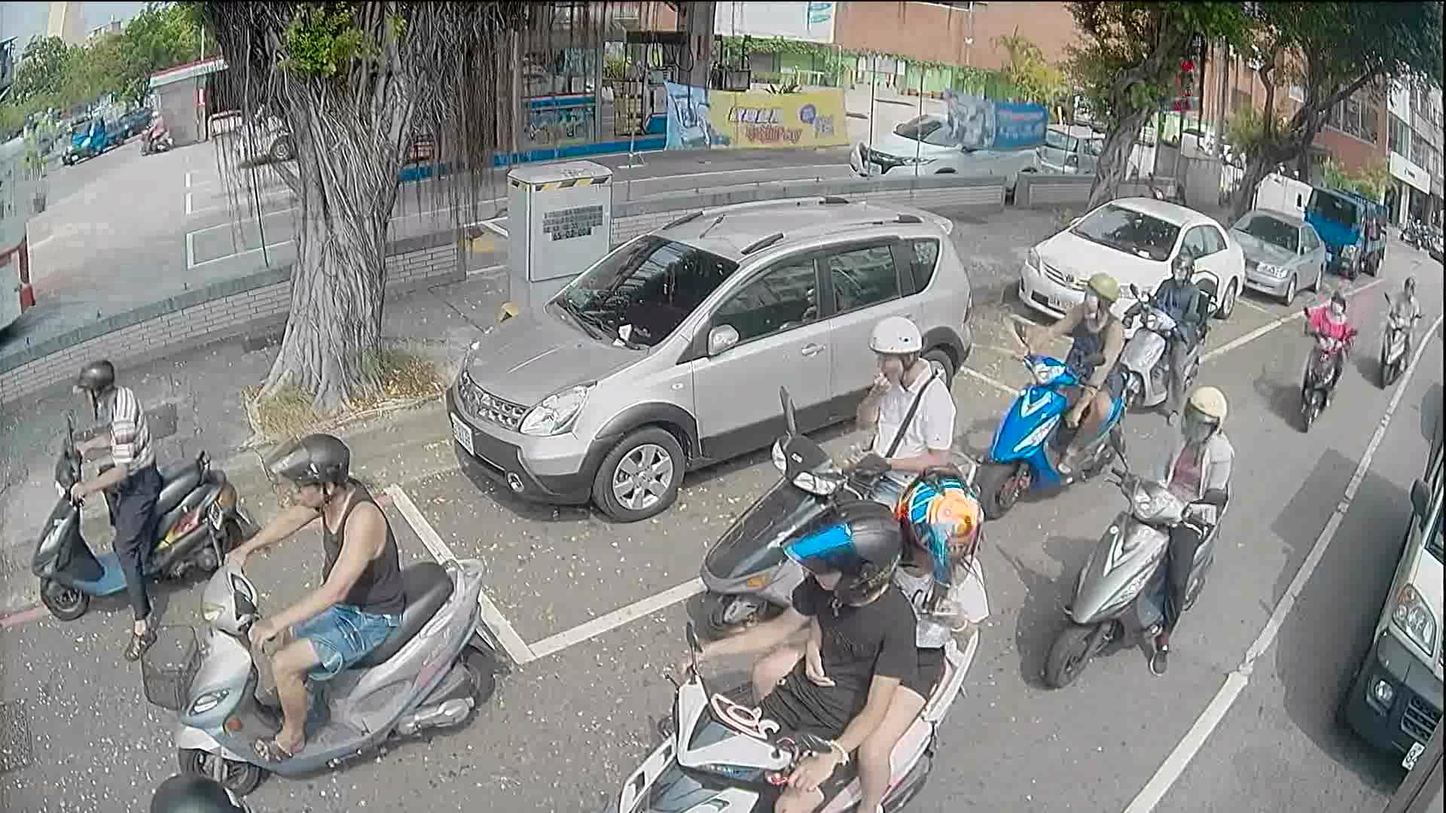person: (664, 494, 920, 811), (754, 472, 980, 808), (214, 423, 403, 769), (55, 348, 170, 656), (1130, 376, 1228, 676), (853, 317, 960, 512), (1022, 263, 1118, 474), (1142, 253, 1213, 416), (1301, 287, 1354, 406), (150, 756, 244, 811), (1383, 274, 1419, 369), (144, 111, 166, 146)
